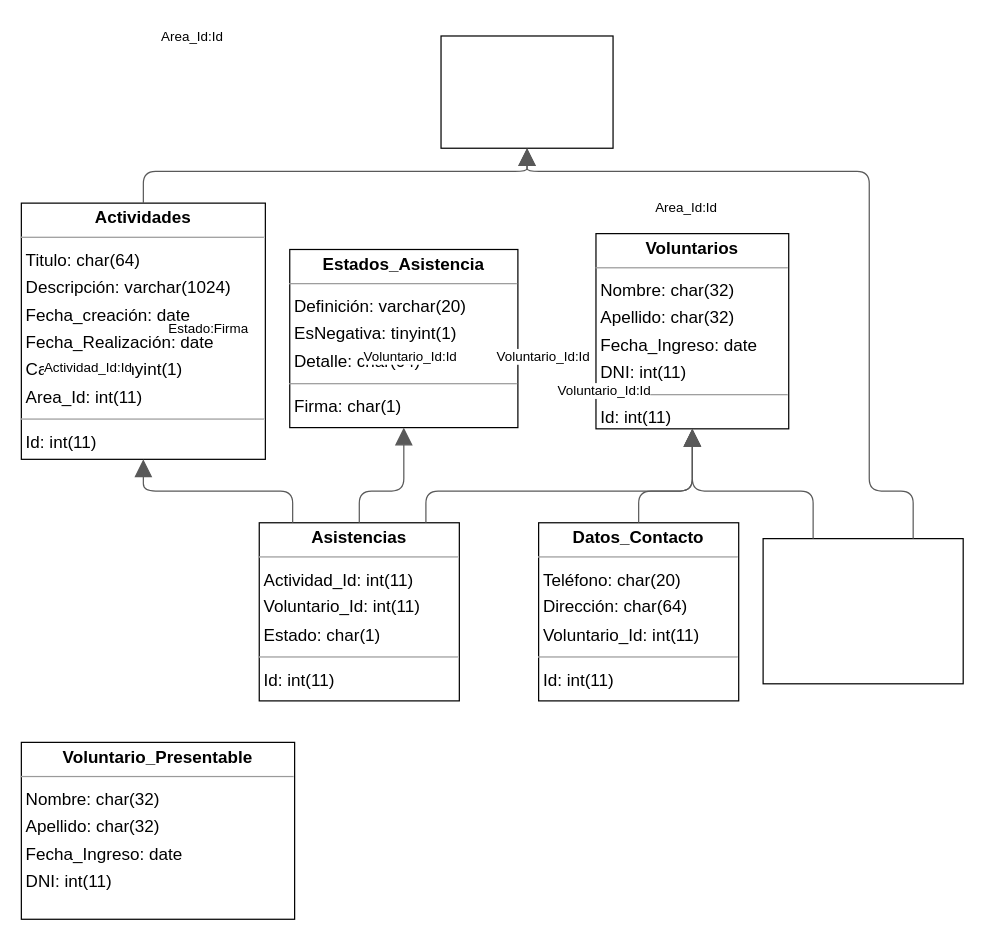
Image size: 985x941. Some labels were removed from this diagram. The centre of each missing label's shape, as x and y in pixels:
"Areas Nombre: char(64) Id: int(11)" belongs at [526,91].
"Coordinadores Area_Id: int(11) Voluntario_Id: int(11) Id: int(11)" belongs at [862,610].
